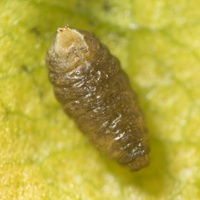insect: (47, 26, 148, 170)
